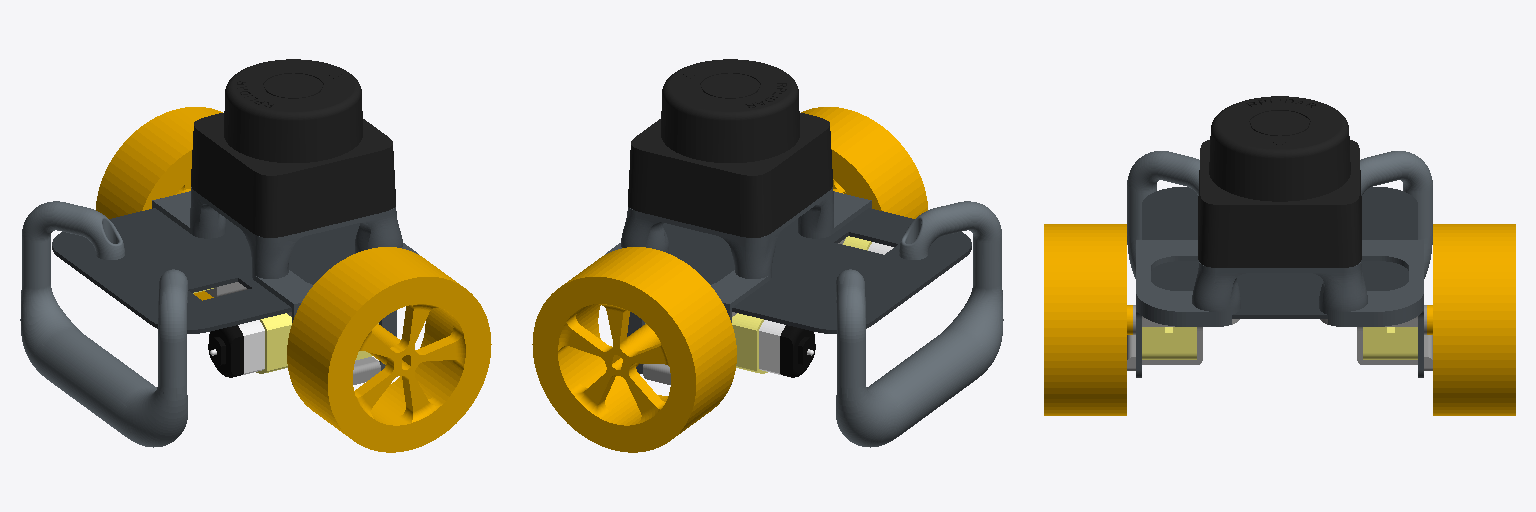
The robot description file, URDF, robot "mote":
<?xml version="1.0" ?>
<!-- Generated using onshape-to-robot -->
<!-- Onshape document_id: 1587a90b12bee427526d37dc -->
<robot name="mote">
  <!-- Link base_link -->
  <link name="base_link">
    <inertial>
      <origin xyz="0 0 0" rpy="0 0 0"/>
      <mass value="1e-09"/>
      <inertia ixx="1e-09" ixy="0" ixz="0" iyy="1e-09" iyz="0" izz="1e-09"/>
    </inertial>
  </link>
  <!-- Link robot_body -->
  <link name="robot_body">
    <inertial>
      <origin xyz="-0.0189166 -0.000422193 0.052482" rpy="0 0 0"/>
      <mass value="0.276245"/>
      <inertia ixx="0.000421169" ixy="2.90441e-07" ixz="-0.000143429" iyy="0.00048607" iyz="7.7835e-08" izz="0.000486221"/>
    </inertial>
    <!-- Part tt_motor_3777_v10 -->
    <visual>
      <origin xyz="2.669e-09 -0.0379679 0.0325" rpy="-0 1.5708 0"/>
      <geometry>
        <mesh filename="package://mote_description/description/mote/assets/tt_motor_3777_v10.stl"/>
      </geometry>
      <material name="tt_motor_3777_v10_material">
        <color rgba="0.964706 0.964706 0.952941 1"/>
      </material>
    </visual>
    <collision>
      <origin xyz="2.669e-09 -0.0379679 0.0325" rpy="-0 1.5708 0"/>
      <geometry>
        <mesh filename="package://mote_description/description/mote/assets/tt_motor_3777_v10.stl"/>
      </geometry>
    </collision>
    <!-- Part right_motor_mount_top -->
    <visual>
      <origin xyz="2.669e-09 0.0370321 0.0457" rpy="0 -0 -1.5708"/>
      <geometry>
        <mesh filename="package://mote_description/description/mote/assets/right_motor_mount_top.stl"/>
      </geometry>
      <material name="right_motor_mount_top_material">
        <color rgba="0.34902 0.376471 0.4 1"/>
      </material>
    </visual>
    <collision>
      <origin xyz="2.669e-09 0.0370321 0.0457" rpy="0 -0 -1.5708"/>
      <geometry>
        <mesh filename="package://mote_description/description/mote/assets/right_motor_mount_top.stl"/>
      </geometry>
    </collision>
    <!-- Part tt_motor_3777_v10_2 -->
    <visual>
      <origin xyz="2.669e-09 0.0370321 0.0325" rpy="-3.14159 -1.5708 0"/>
      <geometry>
        <mesh filename="package://mote_description/description/mote/assets/tt_motor_3777_v10__2.stl"/>
      </geometry>
      <material name="tt_motor_3777_v10_2_material">
        <color rgba="0.960784 0.960784 0.964706 1"/>
      </material>
    </visual>
    <collision>
      <origin xyz="2.669e-09 0.0370321 0.0325" rpy="-3.14159 -1.5708 0"/>
      <geometry>
        <mesh filename="package://mote_description/description/mote/assets/tt_motor_3777_v10__2.stl"/>
      </geometry>
    </collision>
    <!-- Part spacer -->
    <visual>
      <origin xyz="2.669e-09 -0.0173279 0.0325" rpy="1.5708 -1.5708 0"/>
      <geometry>
        <mesh filename="package://mote_description/description/mote/assets/spacer.stl"/>
      </geometry>
      <material name="spacer_material">
        <color rgba="0.647059 0.647059 0.647059 1"/>
      </material>
    </visual>
    <collision>
      <origin xyz="2.669e-09 -0.0173279 0.0325" rpy="1.5708 -1.5708 0"/>
      <geometry>
        <mesh filename="package://mote_description/description/mote/assets/spacer.stl"/>
      </geometry>
    </collision>
    <!-- Part tt_motor_3777_v10_3 -->
    <visual>
      <origin xyz="2.669e-09 -0.0379679 0.0325" rpy="-0 1.5708 0"/>
      <geometry>
        <mesh filename="package://mote_description/description/mote/assets/tt_motor_3777_v10__2.stl"/>
      </geometry>
      <material name="tt_motor_3777_v10_3_material">
        <color rgba="0.960784 0.960784 0.964706 1"/>
      </material>
    </visual>
    <collision>
      <origin xyz="2.669e-09 -0.0379679 0.0325" rpy="-0 1.5708 0"/>
      <geometry>
        <mesh filename="package://mote_description/description/mote/assets/tt_motor_3777_v10__2.stl"/>
      </geometry>
    </collision>
    <!-- Part tt_motor_3777_v10_4 -->
    <visual>
      <origin xyz="2.669e-09 -0.0379679 0.0325" rpy="-0 1.5708 0"/>
      <geometry>
        <mesh filename="package://mote_description/description/mote/assets/tt_motor_3777_v10__3.stl"/>
      </geometry>
      <material name="tt_motor_3777_v10_4_material">
        <color rgba="0.627451 0.627451 0.627451 1"/>
      </material>
    </visual>
    <collision>
      <origin xyz="2.669e-09 -0.0379679 0.0325" rpy="-0 1.5708 0"/>
      <geometry>
        <mesh filename="package://mote_description/description/mote/assets/tt_motor_3777_v10__3.stl"/>
      </geometry>
    </collision>
    <!-- Part tt_motor_3777_v10_5 -->
    <visual>
      <origin xyz="2.669e-09 0.0370321 0.0325" rpy="-3.14159 -1.5708 0"/>
      <geometry>
        <mesh filename="package://mote_description/description/mote/assets/tt_motor_3777_v10__4.stl"/>
      </geometry>
      <material name="tt_motor_3777_v10_5_material">
        <color rgba="0.960784 0.960784 0.964706 1"/>
      </material>
    </visual>
    <collision>
      <origin xyz="2.669e-09 0.0370321 0.0325" rpy="-3.14159 -1.5708 0"/>
      <geometry>
        <mesh filename="package://mote_description/description/mote/assets/tt_motor_3777_v10__4.stl"/>
      </geometry>
    </collision>
    <!-- Part tt_motor_3777_v10_6 -->
    <visual>
      <origin xyz="2.669e-09 -0.0379679 0.0325" rpy="-0 1.5708 0"/>
      <geometry>
        <mesh filename="package://mote_description/description/mote/assets/tt_motor_3777_v10__5.stl"/>
      </geometry>
      <material name="tt_motor_3777_v10_6_material">
        <color rgba="0.0980392 0.0980392 0.0980392 1"/>
      </material>
    </visual>
    <collision>
      <origin xyz="2.669e-09 -0.0379679 0.0325" rpy="-0 1.5708 0"/>
      <geometry>
        <mesh filename="package://mote_description/description/mote/assets/tt_motor_3777_v10__5.stl"/>
      </geometry>
    </collision>
    <!-- Part tt_motor_3777_v10_7 -->
    <visual>
      <origin xyz="2.669e-09 0.0370321 0.0325" rpy="-3.14159 -1.5708 0"/>
      <geometry>
        <mesh filename="package://mote_description/description/mote/assets/tt_motor_3777_v10__6.stl"/>
      </geometry>
      <material name="tt_motor_3777_v10_7_material">
        <color rgba="0.627451 0.627451 0.627451 1"/>
      </material>
    </visual>
    <collision>
      <origin xyz="2.669e-09 0.0370321 0.0325" rpy="-3.14159 -1.5708 0"/>
      <geometry>
        <mesh filename="package://mote_description/description/mote/assets/tt_motor_3777_v10__6.stl"/>
      </geometry>
    </collision>
    <!-- Part tail_runner -->
    <visual>
      <origin xyz="2.669e-09 -0.000467935 0.0473" rpy="0 -0 -1.5708"/>
      <geometry>
        <mesh filename="package://mote_description/description/mote/assets/tail_runner.stl"/>
      </geometry>
      <material name="tail_runner_material">
        <color rgba="0.439216 0.47451 0.501961 1"/>
      </material>
    </visual>
    <collision>
      <origin xyz="2.669e-09 -0.000467935 0.0473" rpy="0 -0 -1.5708"/>
      <geometry>
        <mesh filename="package://mote_description/description/mote/assets/tail_runner.stl"/>
      </geometry>
    </collision>
    <!-- Part tt_motor_3777_v10_8 -->
    <visual>
      <origin xyz="2.669e-09 0.0370321 0.0325" rpy="-3.14159 -1.5708 0"/>
      <geometry>
        <mesh filename="package://mote_description/description/mote/assets/tt_motor_3777_v10__7.stl"/>
      </geometry>
      <material name="tt_motor_3777_v10_8_material">
        <color rgba="1 0.976471 0.521569 1"/>
      </material>
    </visual>
    <collision>
      <origin xyz="2.669e-09 0.0370321 0.0325" rpy="-3.14159 -1.5708 0"/>
      <geometry>
        <mesh filename="package://mote_description/description/mote/assets/tt_motor_3777_v10__7.stl"/>
      </geometry>
    </collision>
    <!-- Part spacer_2 -->
    <visual>
      <origin xyz="2.669e-09 0.0163921 0.0325" rpy="-1.5708 1.5708 0"/>
      <geometry>
        <mesh filename="package://mote_description/description/mote/assets/spacer.stl"/>
      </geometry>
      <material name="spacer_2_material">
        <color rgba="0.647059 0.647059 0.647059 1"/>
      </material>
    </visual>
    <collision>
      <origin xyz="2.669e-09 0.0163921 0.0325" rpy="-1.5708 1.5708 0"/>
      <geometry>
        <mesh filename="package://mote_description/description/mote/assets/spacer.stl"/>
      </geometry>
    </collision>
    <!-- Part right_motor_mount_bottom -->
    <visual>
      <origin xyz="2.669e-09 0.0370321 0.0457" rpy="0 -0 -1.5708"/>
      <geometry>
        <mesh filename="package://mote_description/description/mote/assets/right_motor_mount_bottom.stl"/>
      </geometry>
      <material name="right_motor_mount_bottom_material">
        <color rgba="0.647059 0.647059 0.647059 1"/>
      </material>
    </visual>
    <collision>
      <origin xyz="2.669e-09 0.0370321 0.0457" rpy="0 -0 -1.5708"/>
      <geometry>
        <mesh filename="package://mote_description/description/mote/assets/right_motor_mount_bottom.stl"/>
      </geometry>
    </collision>
    <!-- Part tt_motor_3777_v10_9 -->
    <visual>
      <origin xyz="2.669e-09 0.0370321 0.0325" rpy="-3.14159 -1.5708 0"/>
      <geometry>
        <mesh filename="package://mote_description/description/mote/assets/tt_motor_3777_v10.stl"/>
      </geometry>
      <material name="tt_motor_3777_v10_9_material">
        <color rgba="0.964706 0.964706 0.952941 1"/>
      </material>
    </visual>
    <collision>
      <origin xyz="2.669e-09 0.0370321 0.0325" rpy="-3.14159 -1.5708 0"/>
      <geometry>
        <mesh filename="package://mote_description/description/mote/assets/tt_motor_3777_v10.stl"/>
      </geometry>
    </collision>
    <!-- Part left_motor_mount_top -->
    <visual>
      <origin xyz="2.669e-09 0.0370321 0.0457" rpy="0 -0 -1.5708"/>
      <geometry>
        <mesh filename="package://mote_description/description/mote/assets/left_motor_mount_top.stl"/>
      </geometry>
      <material name="left_motor_mount_top_material">
        <color rgba="0.34902 0.376471 0.4 1"/>
      </material>
    </visual>
    <collision>
      <origin xyz="2.669e-09 0.0370321 0.0457" rpy="0 -0 -1.5708"/>
      <geometry>
        <mesh filename="package://mote_description/description/mote/assets/left_motor_mount_top.stl"/>
      </geometry>
    </collision>
    <!-- Part tt_motor_3777_v10_10 -->
    <visual>
      <origin xyz="2.669e-09 -0.0379679 0.0325" rpy="-0 1.5708 0"/>
      <geometry>
        <mesh filename="package://mote_description/description/mote/assets/tt_motor_3777_v10__4.stl"/>
      </geometry>
      <material name="tt_motor_3777_v10_10_material">
        <color rgba="0.960784 0.960784 0.964706 1"/>
      </material>
    </visual>
    <collision>
      <origin xyz="2.669e-09 -0.0379679 0.0325" rpy="-0 1.5708 0"/>
      <geometry>
        <mesh filename="package://mote_description/description/mote/assets/tt_motor_3777_v10__4.stl"/>
      </geometry>
    </collision>
    <!-- Part tt_motor_3777_v10_11 -->
    <visual>
      <origin xyz="2.669e-09 -0.0379679 0.0325" rpy="-0 1.5708 0"/>
      <geometry>
        <mesh filename="package://mote_description/description/mote/assets/tt_motor_3777_v10__6.stl"/>
      </geometry>
      <material name="tt_motor_3777_v10_11_material">
        <color rgba="0.627451 0.627451 0.627451 1"/>
      </material>
    </visual>
    <collision>
      <origin xyz="2.669e-09 -0.0379679 0.0325" rpy="-0 1.5708 0"/>
      <geometry>
        <mesh filename="package://mote_description/description/mote/assets/tt_motor_3777_v10__6.stl"/>
      </geometry>
    </collision>
    <!-- Part tt_motor_3777_v10_12 -->
    <visual>
      <origin xyz="2.669e-09 0.0370321 0.0325" rpy="-3.14159 -1.5708 0"/>
      <geometry>
        <mesh filename="package://mote_description/description/mote/assets/tt_motor_3777_v10__8.stl"/>
      </geometry>
      <material name="tt_motor_3777_v10_12_material">
        <color rgba="1 0.976471 0.521569 1"/>
      </material>
    </visual>
    <collision>
      <origin xyz="2.669e-09 0.0370321 0.0325" rpy="-3.14159 -1.5708 0"/>
      <geometry>
        <mesh filename="package://mote_description/description/mote/assets/tt_motor_3777_v10__8.stl"/>
      </geometry>
    </collision>
    <!-- Part pcb -->
    <visual>
      <origin xyz="2.669e-09 -0.000467935 0.0457" rpy="0 -0 -1.5708"/>
      <geometry>
        <mesh filename="package://mote_description/description/mote/assets/pcb.stl"/>
      </geometry>
      <material name="pcb_material">
        <color rgba="0.262745 0.282353 0.301961 1"/>
      </material>
    </visual>
    <collision>
      <origin xyz="2.669e-09 -0.000467935 0.0457" rpy="0 -0 -1.5708"/>
      <geometry>
        <mesh filename="package://mote_description/description/mote/assets/pcb.stl"/>
      </geometry>
    </collision>
    <!-- Part tt_motor_3777_v10_13 -->
    <visual>
      <origin xyz="2.669e-09 -0.0379679 0.0325" rpy="-0 1.5708 0"/>
      <geometry>
        <mesh filename="package://mote_description/description/mote/assets/tt_motor_3777_v10__8.stl"/>
      </geometry>
      <material name="tt_motor_3777_v10_13_material">
        <color rgba="1 0.976471 0.521569 1"/>
      </material>
    </visual>
    <collision>
      <origin xyz="2.669e-09 -0.0379679 0.0325" rpy="-0 1.5708 0"/>
      <geometry>
        <mesh filename="package://mote_description/description/mote/assets/tt_motor_3777_v10__8.stl"/>
      </geometry>
    </collision>
    <!-- Part slamtec_rplidar_c1_v7 -->
    <visual>
      <origin xyz="-0.000614602 0.00014667 0.0647" rpy="0 -0 1.5708"/>
      <geometry>
        <mesh filename="package://mote_description/description/mote/assets/slamtec_rplidar_c1_v7.stl"/>
      </geometry>
      <material name="slamtec_rplidar_c1_v7_material">
        <color rgba="0.176471 0.176471 0.176471 1"/>
      </material>
    </visual>
    <collision>
      <origin xyz="-0.000614602 0.00014667 0.0647" rpy="0 -0 1.5708"/>
      <geometry>
        <mesh filename="package://mote_description/description/mote/assets/slamtec_rplidar_c1_v7.stl"/>
      </geometry>
    </collision>
    <!-- Part left_motor_mount_bottom -->
    <visual>
      <origin xyz="2.669e-09 0.0370321 0.0457" rpy="0 -0 -1.5708"/>
      <geometry>
        <mesh filename="package://mote_description/description/mote/assets/left_motor_mount_bottom.stl"/>
      </geometry>
      <material name="left_motor_mount_bottom_material">
        <color rgba="0.647059 0.647059 0.647059 1"/>
      </material>
    </visual>
    <collision>
      <origin xyz="2.669e-09 0.0370321 0.0457" rpy="0 -0 -1.5708"/>
      <geometry>
        <mesh filename="package://mote_description/description/mote/assets/left_motor_mount_bottom.stl"/>
      </geometry>
    </collision>
    <!-- Part tt_motor_3777_v10_14 -->
    <visual>
      <origin xyz="2.669e-09 -0.0379679 0.0325" rpy="-0 1.5708 0"/>
      <geometry>
        <mesh filename="package://mote_description/description/mote/assets/tt_motor_3777_v10__7.stl"/>
      </geometry>
      <material name="tt_motor_3777_v10_14_material">
        <color rgba="1 0.976471 0.521569 1"/>
      </material>
    </visual>
    <collision>
      <origin xyz="2.669e-09 -0.0379679 0.0325" rpy="-0 1.5708 0"/>
      <geometry>
        <mesh filename="package://mote_description/description/mote/assets/tt_motor_3777_v10__7.stl"/>
      </geometry>
    </collision>
    <!-- Part tt_motor_3777_v10_15 -->
    <visual>
      <origin xyz="2.669e-09 0.0370321 0.0325" rpy="-3.14159 -1.5708 0"/>
      <geometry>
        <mesh filename="package://mote_description/description/mote/assets/tt_motor_3777_v10__5.stl"/>
      </geometry>
      <material name="tt_motor_3777_v10_15_material">
        <color rgba="0.0980392 0.0980392 0.0980392 1"/>
      </material>
    </visual>
    <collision>
      <origin xyz="2.669e-09 0.0370321 0.0325" rpy="-3.14159 -1.5708 0"/>
      <geometry>
        <mesh filename="package://mote_description/description/mote/assets/tt_motor_3777_v10__5.stl"/>
      </geometry>
    </collision>
    <!-- Part lidar_stand -->
    <visual>
      <origin xyz="2.669e-09 -0.000467935 0.0473" rpy="0 -0 -1.5708"/>
      <geometry>
        <mesh filename="package://mote_description/description/mote/assets/lidar_stand.stl"/>
      </geometry>
      <material name="lidar_stand_material">
        <color rgba="0.34902 0.376471 0.4 1"/>
      </material>
    </visual>
    <collision>
      <origin xyz="2.669e-09 -0.000467935 0.0473" rpy="0 -0 -1.5708"/>
      <geometry>
        <mesh filename="package://mote_description/description/mote/assets/lidar_stand.stl"/>
      </geometry>
    </collision>
    <!-- Part tt_motor_3777_v10_16 -->
    <visual>
      <origin xyz="2.669e-09 0.0370321 0.0325" rpy="-3.14159 -1.5708 0"/>
      <geometry>
        <mesh filename="package://mote_description/description/mote/assets/tt_motor_3777_v10__3.stl"/>
      </geometry>
      <material name="tt_motor_3777_v10_16_material">
        <color rgba="0.627451 0.627451 0.627451 1"/>
      </material>
    </visual>
    <collision>
      <origin xyz="2.669e-09 0.0370321 0.0325" rpy="-3.14159 -1.5708 0"/>
      <geometry>
        <mesh filename="package://mote_description/description/mote/assets/tt_motor_3777_v10__3.stl"/>
      </geometry>
    </collision>
  </link>
  <!-- Frame lidar (dummy link + fixed joint) -->
  <link name="lidar">
    <origin xyz="0 0 0" rpy="0 -0 0"/>
    <inertial>
      <origin xyz="0 0 0" rpy="0 0 0"/>
      <mass value="1e-9"/>
      <inertia ixx="0" ixy="0" ixz="0" iyy="0" iyz="0" izz="0"/>
    </inertial>
  </link>
  <joint name="lidar_frame" type="fixed">
    <origin xyz="2.346e-09 -0.000467935 0.096" rpy="0 -0 0"/>
    <parent link="robot_body"/>
    <child link="lidar"/>
    <axis xyz="0 0 0"/>
  </joint>
  <!-- Frame imu (dummy link + fixed joint) -->
  <link name="imu">
    <origin xyz="0 0 0" rpy="0 -0 0"/>
    <inertial>
      <origin xyz="0 0 0" rpy="0 0 0"/>
      <mass value="1e-9"/>
      <inertia ixx="0" ixy="0" ixz="0" iyy="0" iyz="0" izz="0"/>
    </inertial>
  </link>
  <joint name="imu_frame" type="fixed">
    <origin xyz="2.669e-09 -0.000467935 0.0457" rpy="3.14159 -0 0"/>
    <parent link="robot_body"/>
    <child link="imu"/>
    <axis xyz="0 0 0"/>
  </joint>
  <!-- Link wheel_left -->
  <link name="wheel_left">
    <inertial>
      <origin xyz="-0 -0 0.0163448" rpy="0 0 0"/>
      <mass value="0.0653752"/>
      <inertia ixx="2.83427e-05" ixy="-0" ixz="0" iyy="2.8342e-05" iyz="0" izz="4.80093e-05"/>
    </inertial>
    <!-- Part wheel_left -->
    <visual>
      <origin xyz="0 -0 0.02994" rpy="3.14159 -0 -0"/>
      <geometry>
        <mesh filename="package://mote_description/description/mote/assets/wheel_left.stl"/>
      </geometry>
      <material name="wheel_left_material">
        <color rgba="0.980392 0.713725 0.00392157 1"/>
      </material>
    </visual>
    <collision>
      <origin xyz="0 -0 0.02994" rpy="3.14159 -0 -0"/>
      <geometry>
        <mesh filename="package://mote_description/description/mote/assets/wheel_left.stl"/>
      </geometry>
    </collision>
  </link>
  <!-- Joint from robot_body to wheel_left -->
  <joint name="left_wheel" type="continuous">
    <origin xyz="2.669e-09 0.0493321 0.0325" rpy="-1.5708 1.30857 0"/>
    <parent link="robot_body"/>
    <child link="wheel_left"/>
    <axis xyz="0 0 1"/>
    <limit effort="10" velocity="10"/>
  </joint>
  <!-- Link wheel_right -->
  <link name="wheel_right">
    <inertial>
      <origin xyz="-0 -0 -0.0163448" rpy="0 0 0"/>
      <mass value="0.0653752"/>
      <inertia ixx="2.83427e-05" ixy="0" ixz="0" iyy="2.8342e-05" iyz="0" izz="4.80093e-05"/>
    </inertial>
    <!-- Part wheel_right -->
    <visual>
      <origin xyz="0 -0 -0.02994" rpy="3.14159 -0 0"/>
      <geometry>
        <mesh filename="package://mote_description/description/mote/assets/wheel_right.stl"/>
      </geometry>
      <material name="wheel_right_material">
        <color rgba="0.980392 0.713725 0.00392157 1"/>
      </material>
    </visual>
    <collision>
      <origin xyz="0 -0 -0.02994" rpy="3.14159 -0 0"/>
      <geometry>
        <mesh filename="package://mote_description/description/mote/assets/wheel_right.stl"/>
      </geometry>
    </collision>
  </link>
  <!-- Joint from robot_body to wheel_right -->
  <joint name="right_wheel" type="continuous">
    <origin xyz="2.669e-09 -0.0502679 0.0325" rpy="1.5708 1.5675 3.14159"/>
    <parent link="robot_body"/>
    <child link="wheel_right"/>
    <axis xyz="0 0 1"/>
    <limit effort="10" velocity="10"/>
  </joint>
  <!-- Joint from base_link to robot_body -->
  <joint name="base_link_to_robot_body" type="fixed">
    <origin xyz="0 0 0" rpy="0 -0 0"/>
    <parent link="base_link"/>
    <child link="robot_body"/>
    <axis xyz="0 0 1"/>
    <limit effort="10" velocity="10"/>
  </joint>
</robot>

--- Render facts (derived) ---
The picture shows the robot from 3 angles, left to right: view 1: azimuth 30°, elevation 25°; view 2: azimuth 150°, elevation 25°; view 3: azimuth 270°, elevation 25°; orthographic projection.
Robot: mote — 6 links, 5 joints (2 continuous, 3 fixed); root link base_link; default pose: all joints at 0.
Links seen in each view (by area): view 1: robot_body, wheel_right, wheel_left; view 2: robot_body, wheel_left, wheel_right; view 3: robot_body, wheel_left, wheel_right.
Link boxes in pixels (x1=…): robot_body: x1=20, y1=59, x2=418, y2=447; wheel_right: x1=287, y1=247, x2=491, y2=452; wheel_left: x1=96, y1=107, x2=222, y2=300; robot_body: x1=605, y1=59, x2=1003, y2=447; wheel_left: x1=532, y1=247, x2=736, y2=452; wheel_right: x1=801, y1=107, x2=927, y2=218; robot_body: x1=1127, y1=96, x2=1432, y2=377; wheel_left: x1=1427, y1=224, x2=1515, y2=415; wheel_right: x1=1044, y1=224, x2=1132, y2=415.
Size in the robot's own frame: 0.1175 by 0.1595 by 0.1061 metres.
26 mesh visuals loaded from 19 distinct referenced files (18 binary STL); not drawn: 2 (reference not matched to a file when rendering).
